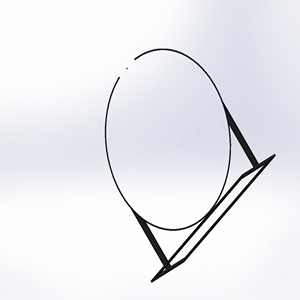circle: (103, 45, 275, 283)
